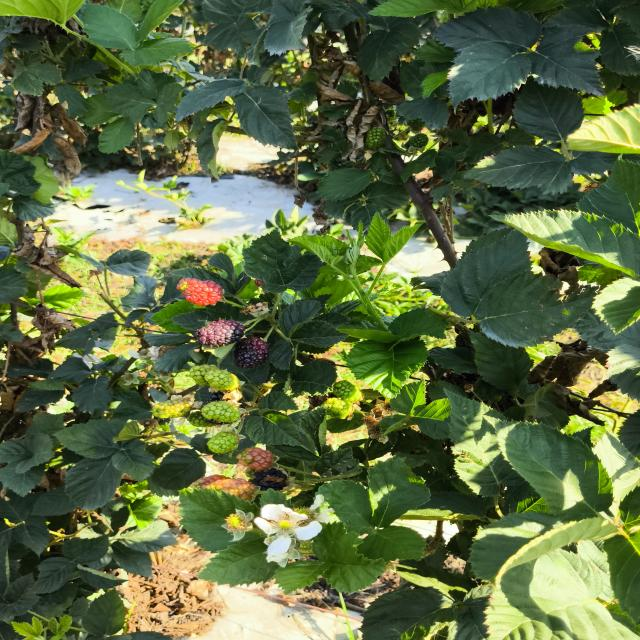flor: (254, 504, 322, 564)
marron: (195, 319, 244, 347), (235, 337, 269, 368)
naranja: (176, 278, 223, 306), (237, 448, 273, 471)
verde: (201, 401, 240, 423), (152, 398, 191, 419), (205, 367, 239, 391), (208, 432, 239, 453), (333, 380, 362, 402), (322, 398, 352, 419), (187, 365, 216, 385), (187, 411, 213, 428)
